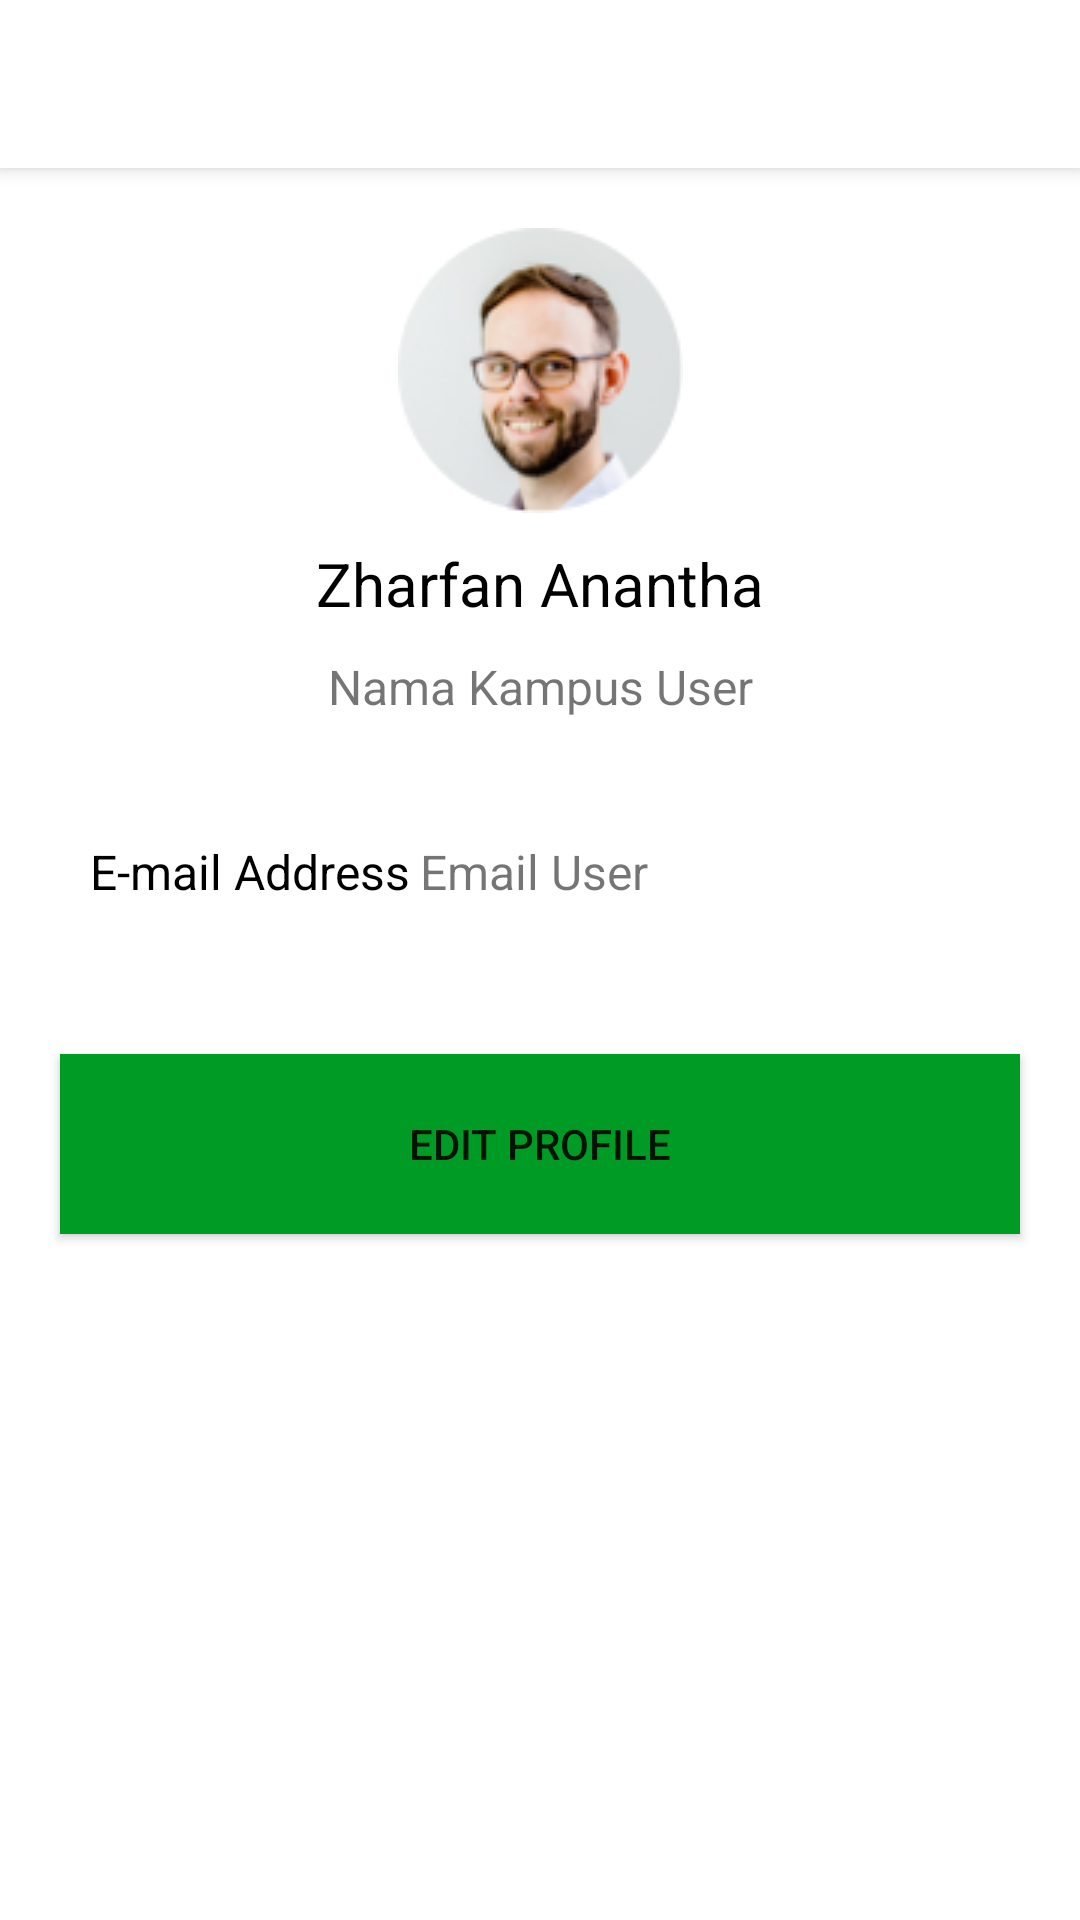

Point at icon controls on the screen. Image size 1080w x 1920h, points as (x,y).
profile: (545,369)
